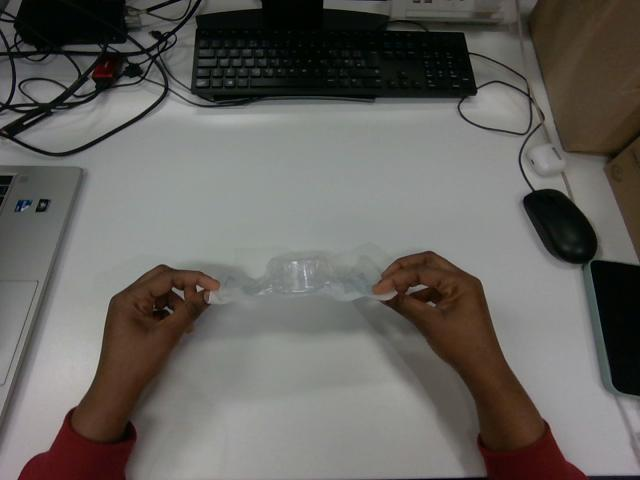gallipot: (207, 253, 396, 303)
